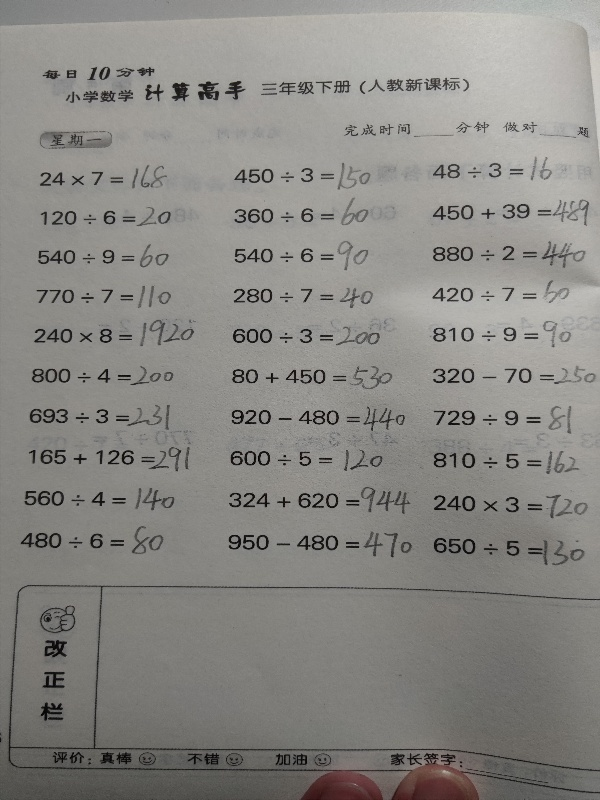equation: (226, 529, 420, 564), (24, 439, 200, 476), (429, 355, 600, 392), (225, 487, 416, 520), (228, 401, 411, 434), (433, 532, 591, 568), (431, 489, 592, 524), (17, 522, 168, 559), (430, 196, 593, 230), (429, 235, 588, 269), (228, 362, 396, 394), (9, 484, 179, 515), (231, 237, 372, 274), (228, 319, 390, 351), (429, 398, 575, 433), (426, 317, 575, 351), (32, 320, 205, 349), (430, 445, 586, 477), (224, 445, 392, 474), (27, 400, 182, 431), (34, 242, 172, 274), (232, 199, 378, 229), (34, 281, 181, 310), (232, 162, 378, 191), (429, 277, 570, 307), (27, 362, 176, 390), (230, 284, 377, 312), (430, 153, 561, 184), (37, 162, 171, 192), (37, 204, 174, 232)
